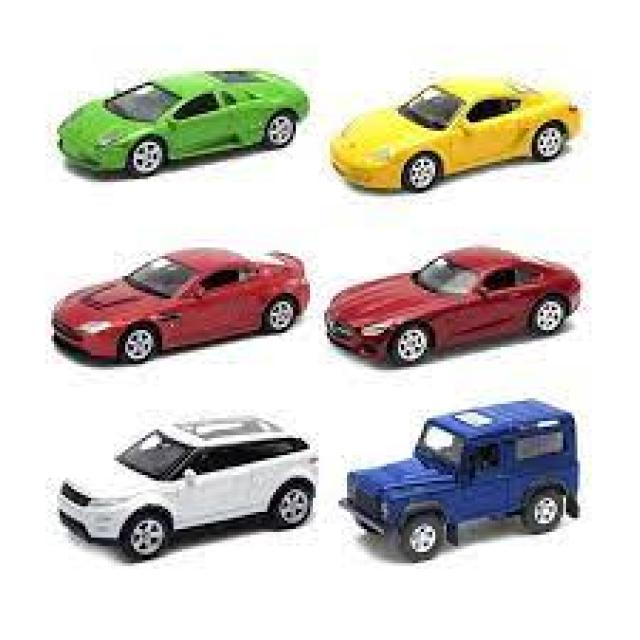Car: (336, 396, 580, 560), (54, 412, 319, 560), (322, 245, 580, 367), (48, 245, 310, 364), (327, 71, 583, 191), (54, 66, 310, 176)
